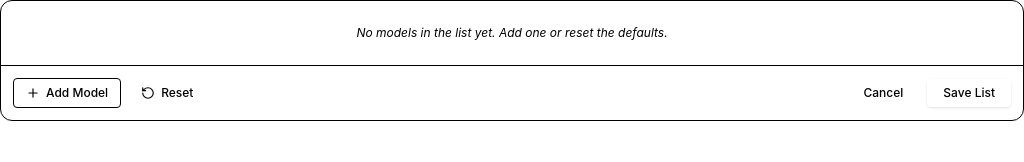
ModelListEditor › keeps the editor open instead of saving an empty model list
Click the button "Save List": (969, 93) x1=927 y1=79 x2=1011 y2=107
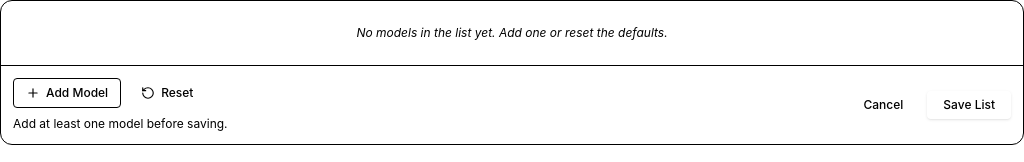
Expected: the text "Add at least one model before saving." is shown, x1=13 y1=116 x2=228 y2=131
